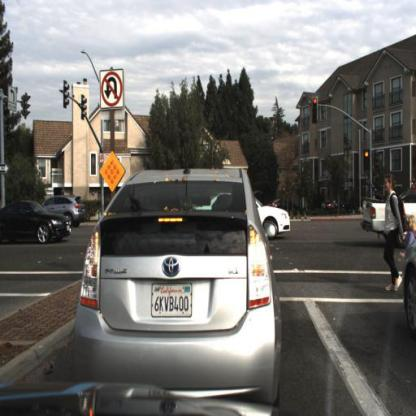car: (72, 165, 283, 388), (1, 199, 74, 250), (364, 186, 416, 238), (400, 230, 416, 337), (256, 196, 294, 241), (38, 195, 87, 225), (319, 192, 346, 224)
pedestrian: (381, 173, 405, 295), (403, 211, 416, 267)
trafficLight-Red: (362, 146, 374, 174), (312, 92, 322, 125)
